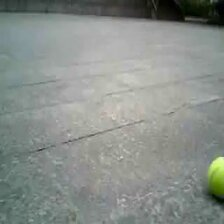tennis: (209, 157, 224, 193)
